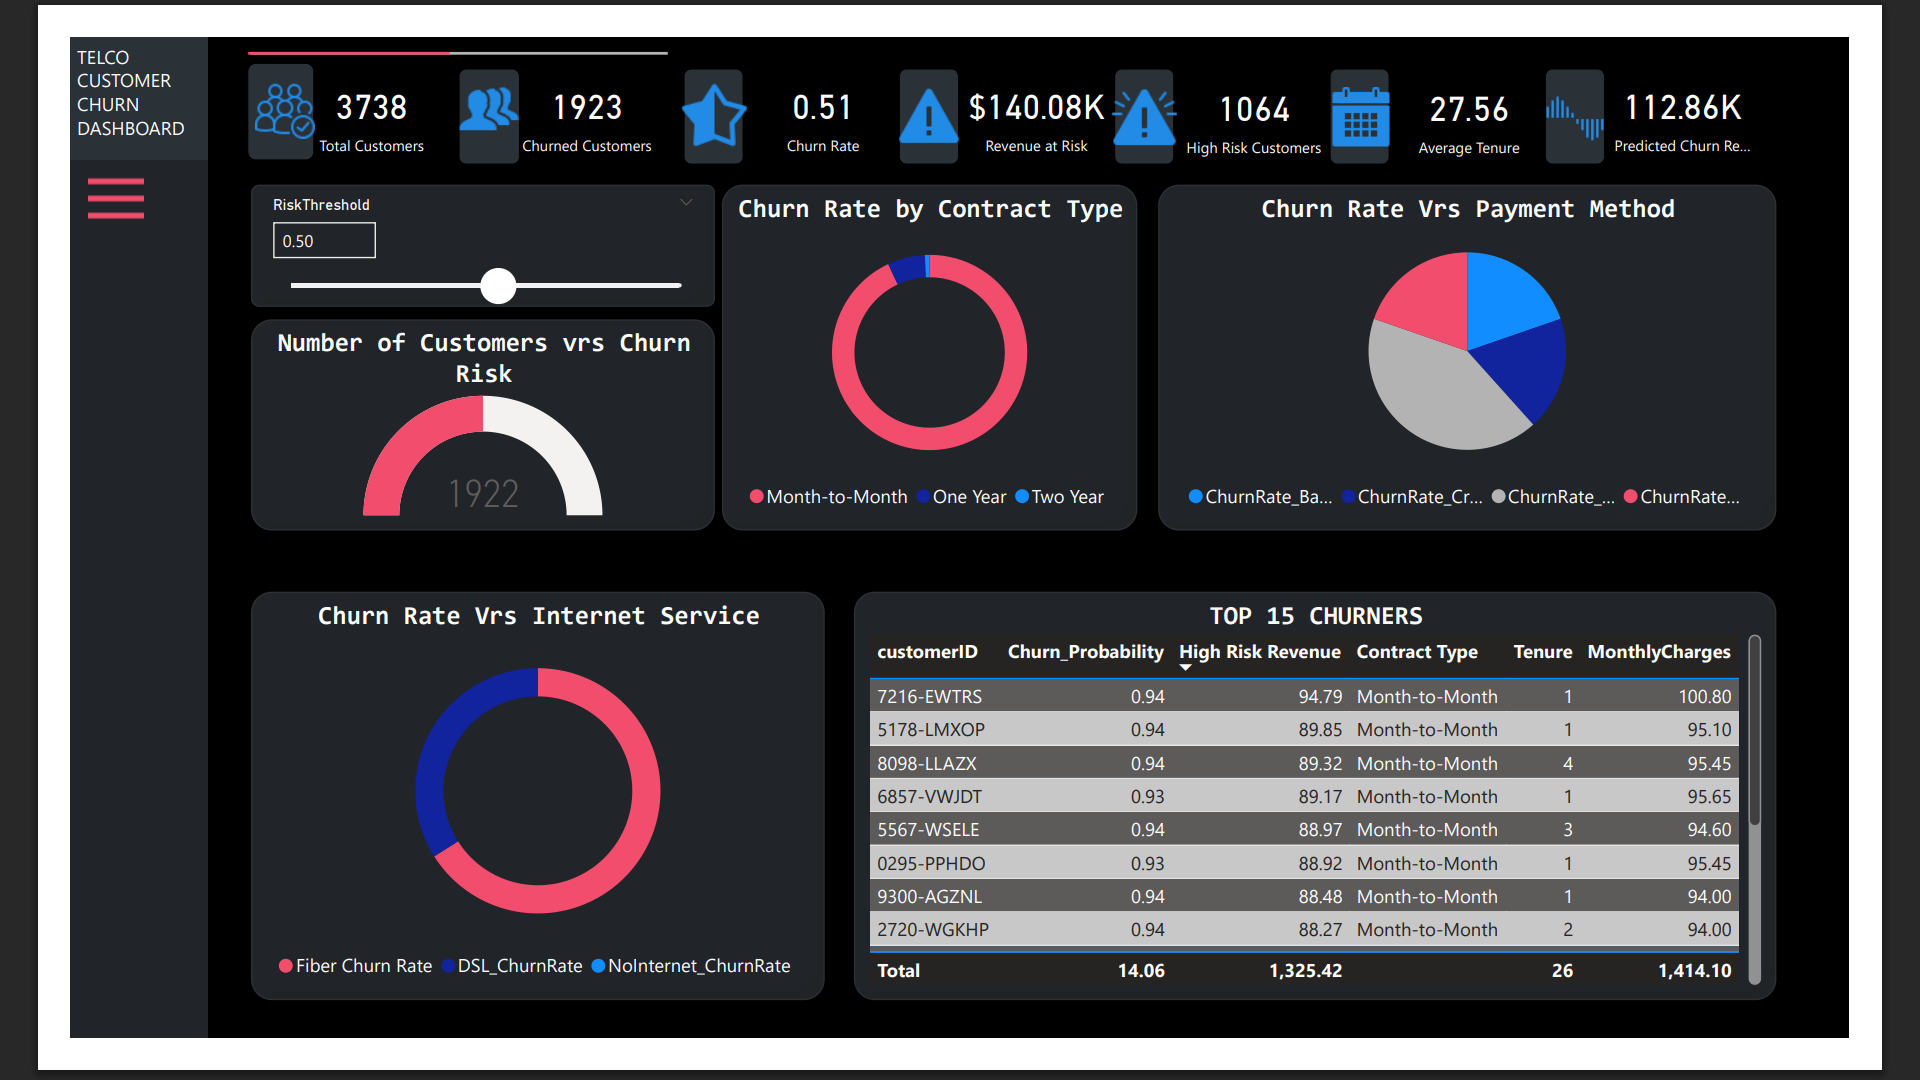

The dashboard page shown, as its layout file describes it:
{"tool":"powerbi","page":{"name":"Page 1","canvas":[1280,720],"ordinal":0},"visuals":[{"type":"shape","box":[0,0,98.8,720],"z":0},{"type":"donutChart","title":"Churn Rate Vrs Internet Service","fields":{"Y":["Measures (2).Fiber Churn Rate","Measures (2).DSL_ChurnRate","Measures (2).NoInternet_ChurnRate"]},"box":[130,398.8,412.5,293.8],"z":1000},{"type":"card","title":"Total Customers","fields":{"Values":["Measures (2).Total Customers"]},"box":[161.2,17.5,111.2,78.8],"z":2000},{"type":"card","title":"Churned Customers","fields":{"Values":["Measures (2).Churned Customers"]},"box":[316.2,17.5,111.2,78.8],"z":3000},{"type":"pieChart","title":"Churn Rate Vrs Payment Method","fields":{"Y":["Measures (2).ChurnRate_BankTransfer","Measures (2).ChurnRate_CreditCard","Measures (2).ChurnRate_ElectronicCheck","Measures (2).ChurnRate_MailedCheck"]},"box":[782.5,106.2,445,248.8],"z":4000},{"type":"card","title":"Churn Rate","fields":{"Values":["Measures (2).Churn Rate"]},"box":[486.2,17.5,111.2,78.8],"z":5000},{"type":"donutChart","title":"Churn Rate  by Contract Type","fields":{"Category":["churn_predictions.Contract Type"],"Y":["Measures (2).High Risk Customers slider"]},"box":[468.8,106.2,298.8,248.8],"z":6000},{"type":"card","title":"Revenue at Risk","fields":{"Values":["Measures (2).Revenue at Risk"]},"box":[640,17.5,111.2,78.8],"z":7000},{"type":"gauge","title":"Number of Customers vrs Churn Risk","fields":{"Y":["Measures (2).High Risk Customers slider"]},"box":[130,202.5,333.8,152.5],"z":8000},{"type":"tableEx","title":"TOP 15 CHURNERS","fields":{"Values":["churn_predictions.customerID","Sum(churn_predictions.Churn_Probability)","Measures (2).High Risk Revenue","churn_predictions.Contract Type","Sum(churn_predictions.tenure)","Sum(churn_predictions.MonthlyCharges)"]},"box":[563.8,398.8,663.8,293.8],"z":9000},{"type":"slicer","fields":{"Values":["RiskThreshold.RiskThreshold"]},"box":[130,106.2,333.8,87.5],"z":10000},{"type":"card","title":"Hish Risk Customers","fields":{"Values":["Measures (2).High Risk Customers"]},"box":[796.2,18.8,111.2,78.8],"z":11000},{"type":"card","title":"Average Tenure","fields":{"Values":["Measures (2).Average Tenure"]},"box":[951.2,18.8,111.2,78.8],"z":12000},{"type":"card","title":"Predicted Churn Revenue","fields":{"Values":["Measures (2).Predicted Churn Revenue"]},"box":[1105,17.5,111.2,78.8],"z":13000},{"type":"shape","box":[597.3,22.5,42,68.8],"z":14000},{"type":"shape","box":[752.3,22.5,42,68.8],"z":15000},{"type":"shape","box":[907.2,22.5,42,68.8],"z":16000},{"type":"shape","box":[1062.1,22.5,42,68.8],"z":17000},{"type":"shape","box":[280,22.5,42.5,68.8],"z":18000},{"type":"shape","box":[127.5,18.8,47.5,68.8],"z":19000},{"type":"shape","box":[442.4,22.5,42,68.8],"z":20000},{"type":"shape","box":[130,0,300,22.5],"z":21000},{"type":"shape","box":[127.5,2.5,145,17.5],"z":22000},{"type":"textbox","box":[0,0,98.8,87.5],"z":23000},{"type":"image","box":[127.5,17.5,53.8,67.5],"z":24000},{"type":"image","box":[268.8,22.5,63.8,55],"z":25000},{"type":"image","box":[431.2,26.2,63.8,62.5],"z":26000},{"type":"image","box":[591.2,30,53.8,53.8],"z":27000},{"type":"image","box":[741.2,28.8,63.8,56.2],"z":27001},{"type":"image","box":[901.2,31.2,55,53.8],"z":27002},{"type":"image","box":[1056.2,30,53.8,53.8],"z":27003},{"type":"image","box":[0,91.2,65,50],"z":27004}]}

Visuals, with their boxes in screenshot pixels (x1, y1, x2, y2), scaled from the page's 1280x720 canvas onto the 1920x1080 screenshot:
shape: select_region(0, 0, 148, 1079)
"Churn Rate Vrs Internet Service" donutChart: select_region(195, 598, 814, 1039)
"Total Customers" card: select_region(242, 26, 409, 144)
"Churned Customers" card: select_region(474, 26, 641, 144)
"Churn Rate Vrs Payment Method" pieChart: select_region(1174, 159, 1841, 532)
"Churn Rate" card: select_region(729, 26, 896, 144)
"Churn Rate  by Contract Type" donutChart: select_region(703, 159, 1151, 532)
"Revenue at Risk" card: select_region(960, 26, 1127, 144)
"Number of Customers vrs Churn Risk" gauge: select_region(195, 304, 696, 532)
"TOP 15 CHURNERS" tableEx: select_region(846, 598, 1841, 1039)
slicer - RiskThreshold.RiskThreshold: select_region(195, 159, 696, 291)
"Hish Risk Customers" card: select_region(1194, 28, 1361, 146)
"Average Tenure" card: select_region(1427, 28, 1594, 146)
"Predicted Churn Revenue" card: select_region(1658, 26, 1824, 144)
shape: select_region(896, 34, 959, 137)
shape: select_region(1128, 34, 1191, 137)
shape: select_region(1361, 34, 1424, 137)
shape: select_region(1593, 34, 1656, 137)
shape: select_region(420, 34, 484, 137)
shape: select_region(191, 28, 262, 131)
shape: select_region(664, 34, 727, 137)
shape: select_region(195, 0, 645, 34)
shape: select_region(191, 4, 409, 30)
textbox: select_region(0, 0, 148, 131)
image: select_region(191, 26, 272, 128)
image: select_region(403, 34, 499, 116)
image: select_region(647, 39, 742, 133)
image: select_region(887, 45, 968, 126)
image: select_region(1112, 43, 1208, 128)
image: select_region(1352, 47, 1434, 128)
image: select_region(1584, 45, 1665, 126)
image: select_region(0, 137, 98, 212)
